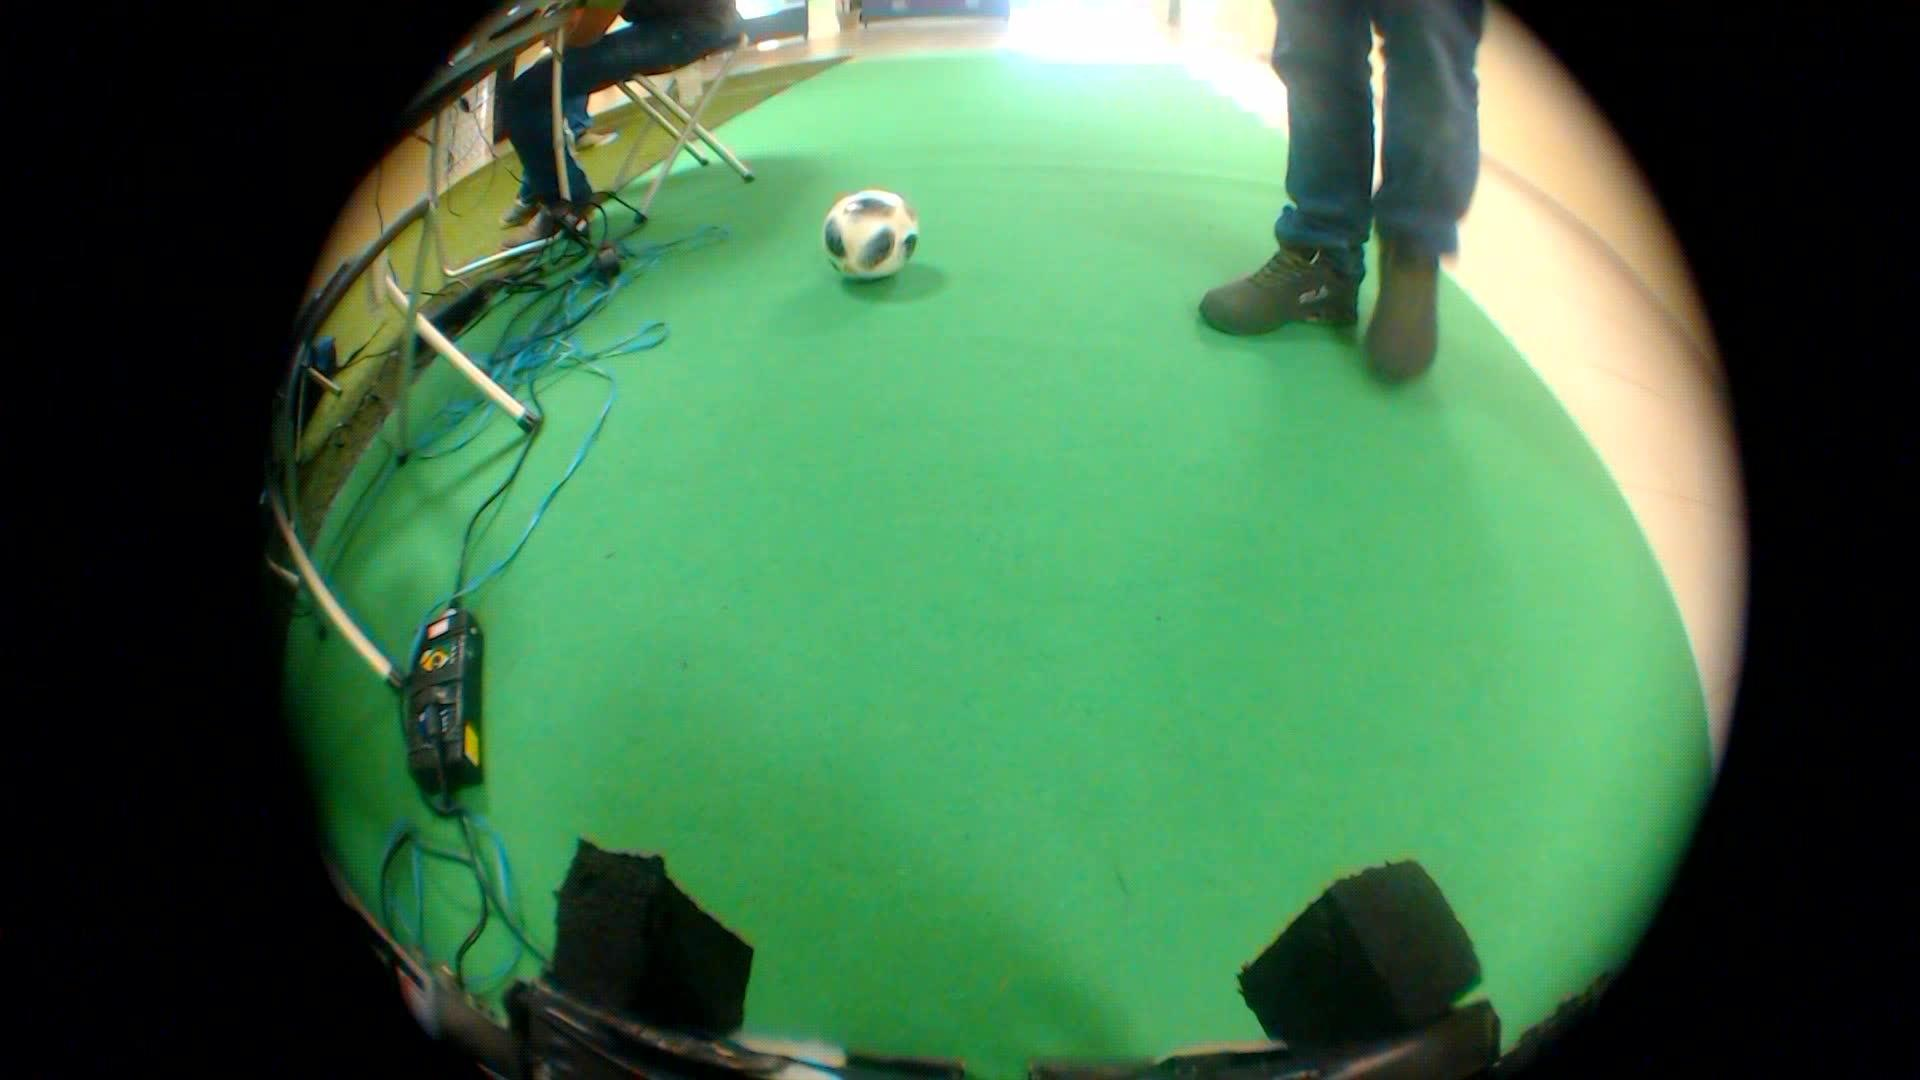ball: (814, 177, 931, 286)
